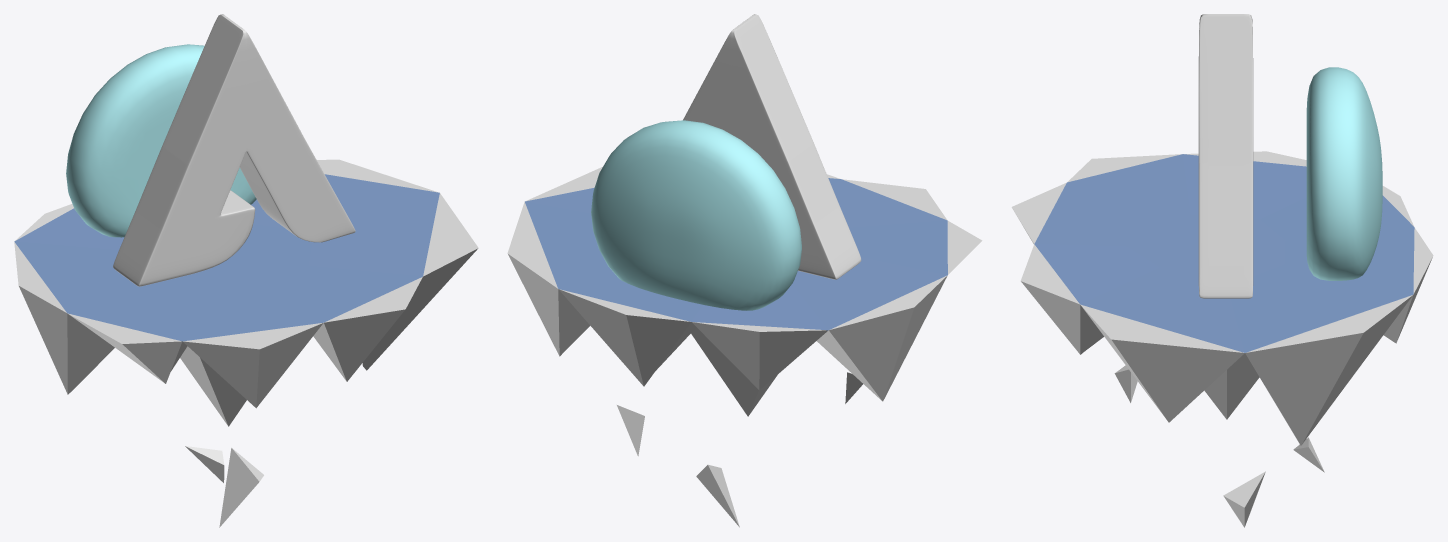
Rendered from ISLA_A_SIN_ILUMINACION.fbx.
The picture shows the model from 3 angles, left to right: view 1: azimuth 30°, elevation 25°; view 2: azimuth 150°, elevation 25°; view 3: azimuth 270°, elevation 25°; orthographic projection. The views are drawn at different scales.
Parts seen in each view (by area): view 1: pCone10, LETRA1, LUNA1, pCone11, pCone12, pCone13; view 2: pCone10, LUNA1, LETRA1, pCone11, pCone12, pCone14; view 3: pCone10, LETRA1, LUNA1, pCone11, pCone12.
Part boxes in pixels (x1=…): pCone10: x1=14, y1=159, x2=478, y2=408; LETRA1: x1=113, y1=14, x2=355, y2=286; LUNA1: x1=66, y1=44, x2=256, y2=237; pCone11: x1=180, y1=346, x2=246, y2=426; pCone12: x1=219, y1=448, x2=263, y2=527; pCone13: x1=185, y1=446, x2=224, y2=482; pCone10: x1=507, y1=167, x2=982, y2=401; LUNA1: x1=591, y1=120, x2=801, y2=310; LETRA1: x1=683, y1=14, x2=861, y2=279; pCone11: x1=691, y1=327, x2=777, y2=416; pCone12: x1=696, y1=464, x2=739, y2=527; pCone14: x1=617, y1=405, x2=644, y2=456; pCone10: x1=1011, y1=151, x2=1433, y2=445; LETRA1: x1=1198, y1=14, x2=1253, y2=298; LUNA1: x1=1306, y1=67, x2=1382, y2=280; pCone11: x1=1204, y1=353, x2=1259, y2=419; pCone12: x1=1223, y1=471, x2=1265, y2=527.
Size of the model in its own units: 31.06 by 36.94 by 27.4.
